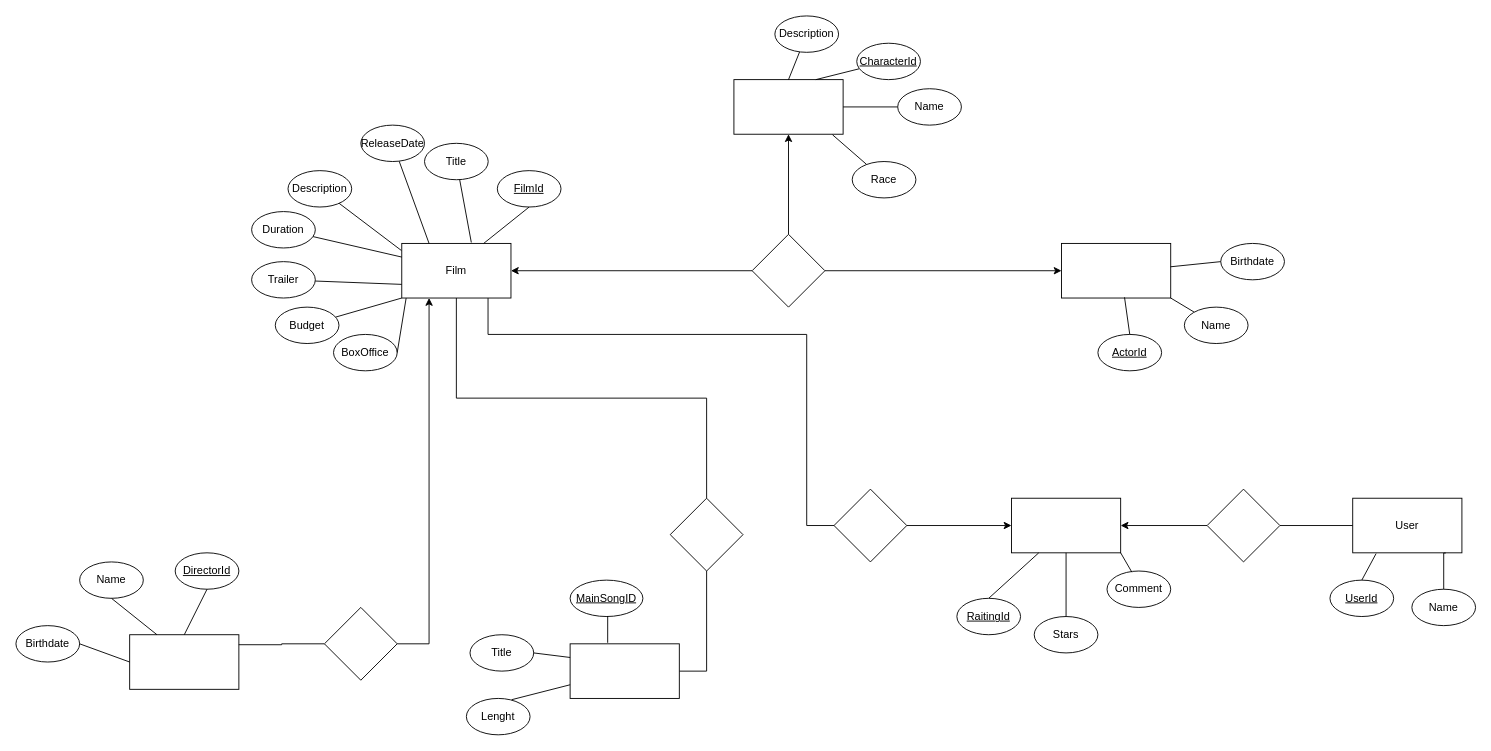
Some shapes in this 1491 by 751 pixel diagram are drawn without their labels. The shapes that lost their labels are listed below. From the top down, each one's centre as x and y in pixels, then its label:
At point (788, 106): "Character".
At point (788, 270): "Casting".
At point (1116, 270): "Actor".
At point (706, 534): "Play".
At point (870, 525): "Has".
At point (1066, 525): "Rating".
At point (1243, 525): "Write".
At point (184, 661): "Director".
At point (360, 643): "Directed".
At point (624, 670): "MainSong".
